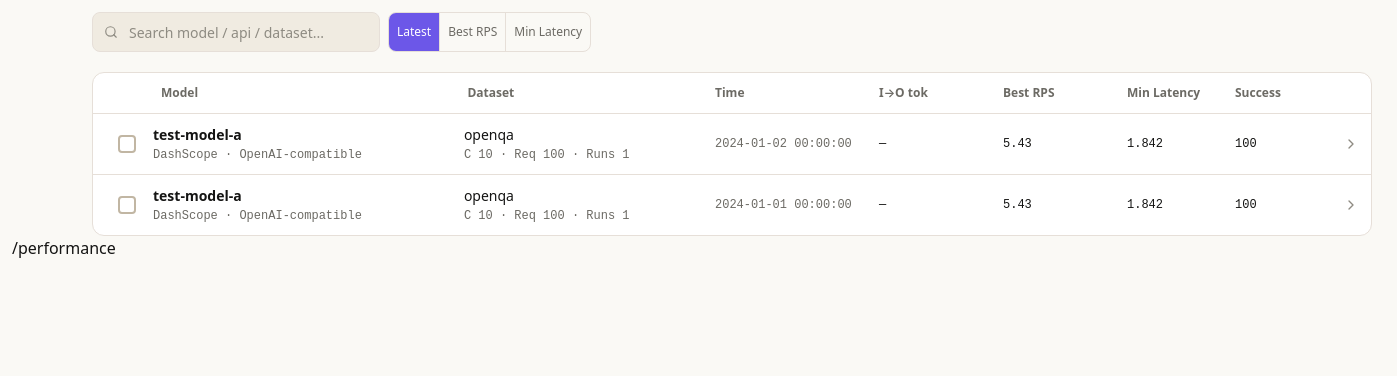
Test case: PerfReportsPage › enables comparison after selecting two performance runs
Click the 1st checkbox named "Select performance run: test-model-a": (127, 144) [105, 122, 149, 166]
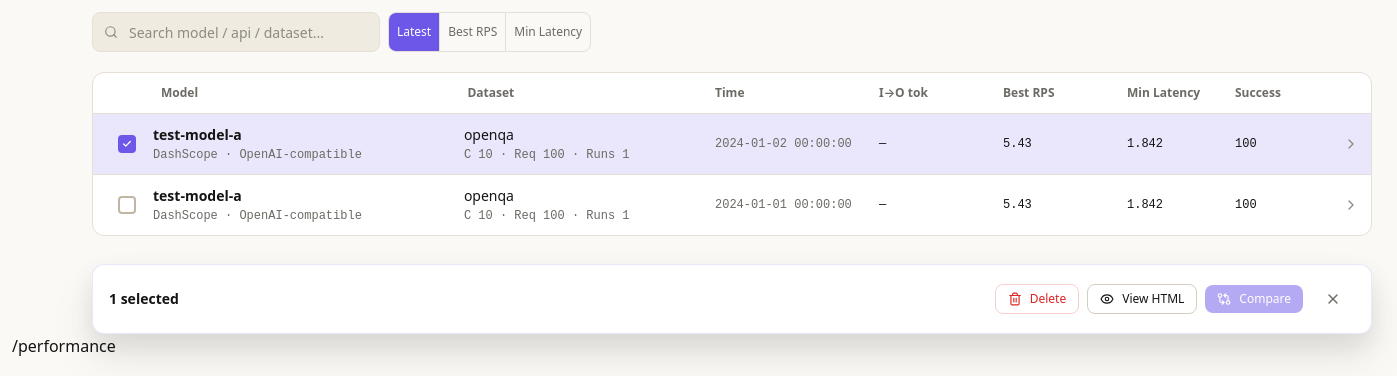
Click the 2nd checkbox named "Select performance run: test-model-a": (127, 205) [105, 183, 149, 227]
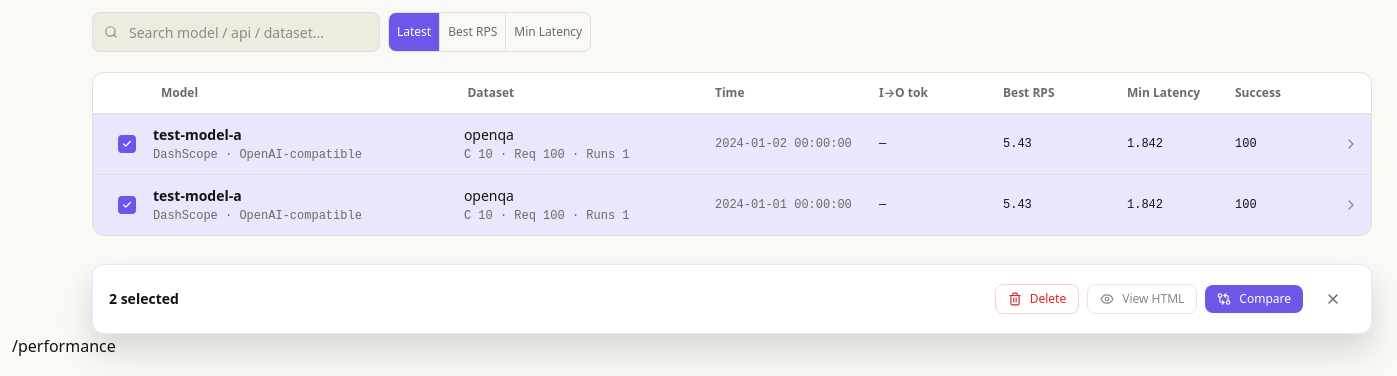
Result: the text "2 selected" is shown at [109, 289, 179, 309]
Result: the button "View HTML" is disabled at [1087, 284, 1197, 314]
Result: the button "Compare" is enabled
Click the button "Compare": (1254, 299) [1205, 285, 1303, 313]
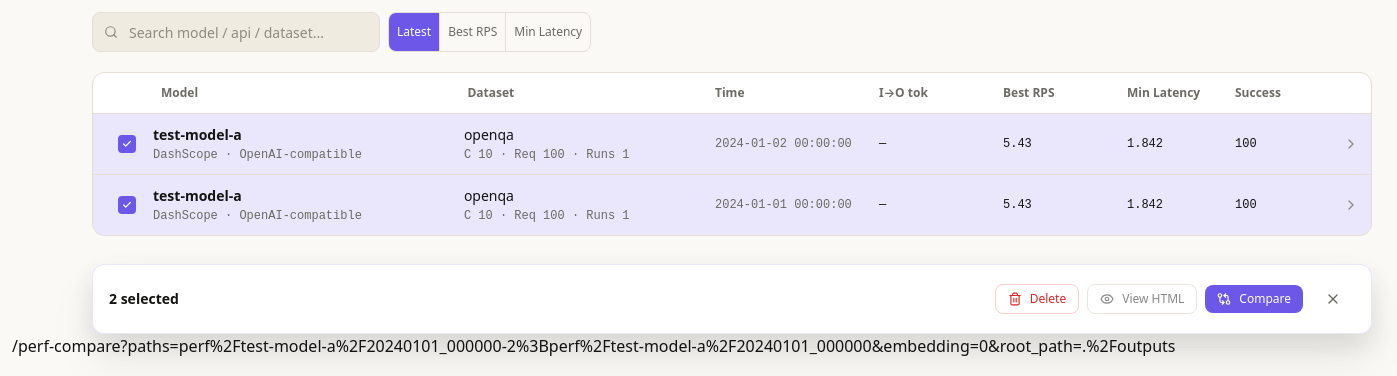
Result: the text with test id "location-probe" shows "/perf-compare?paths=" at [12, 335, 1176, 357]
